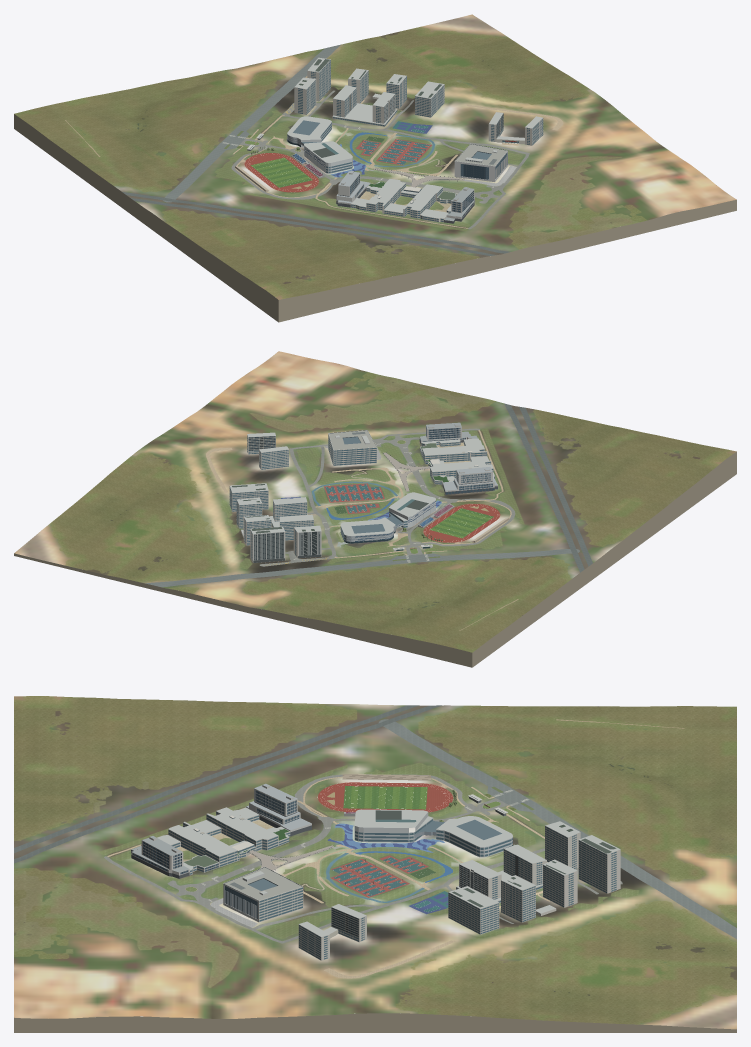
File: huangbohai-campus.glb
The picture shows the model from 3 angles, top to bottom: view 1: azimuth 30°, elevation 25°; view 2: azimuth 150°, elevation 25°; view 3: azimuth 270°, elevation 25°; orthographic projection. The views are drawn at different scales.
Visible parts, largest first — view 1: 黄渤海校区地形, object 2, 校园植被, 校内车行道, G228 丹东线, 芝樱路, 人行铺装, track, J5_4, G1, S5, J5_8 (+4 smaller); view 2: 黄渤海校区地形, object 2, 校园植被, 校内车行道, 芝樱路, G228 丹东线, 人行铺装, G2_6, J5_2, J5, G2_5, track (+4 smaller); view 3: 黄渤海校区地形, object 2, 校园植被, G228 丹东线, 校内车行道, 芝樱路, 人行铺装, G2, S5, G2_2, S5_2, S3 (+27 smaller).
Part boxes in pixels (left/top/right/bottom): 黄渤海校区地形: left=14, top=14, right=736, bottom=299; object 2: left=14, top=114, right=736, bottom=322; 校园植被: left=215, top=86, right=531, bottom=231; 校内车行道: left=231, top=90, right=529, bottom=229; G228 丹东线: left=122, top=192, right=510, bottom=255; 芝樱路: left=163, top=44, right=340, bottom=202; 人行铺装: left=233, top=100, right=563, bottom=228; track: left=244, top=153, right=318, bottom=192; J5_4: left=454, top=143, right=507, bottom=181; G1: left=294, top=79, right=316, bottom=114; S5: left=415, top=84, right=444, bottom=117; J5_8: left=455, top=144, right=506, bottom=165; 黄渤海校区地形: left=14, top=351, right=736, bottom=652; object 2: left=14, top=452, right=736, bottom=667; 校园植被: left=220, top=428, right=524, bottom=569; 校内车行道: left=236, top=428, right=515, bottom=566; 芝樱路: left=145, top=549, right=579, bottom=587; G228 丹东线: left=504, top=403, right=592, bottom=572; 人行铺装: left=206, top=430, right=511, bottom=558; G2_6: left=254, top=532, right=283, bottom=560; J5_2: left=328, top=434, right=376, bottom=465; J5: left=328, top=435, right=376, bottom=465; G2_5: left=254, top=533, right=283, bottom=559; track: left=423, top=504, right=500, bottom=542; 黄渤海校区地形: left=14, top=696, right=736, bottom=1029; object 2: left=14, top=1013, right=736, bottom=1032; 校园植被: left=99, top=762, right=639, bottom=940; G228 丹东线: left=14, top=705, right=441, bottom=863; 校内车行道: left=104, top=774, right=622, bottom=943; 芝樱路: left=378, top=719, right=736, bottom=939; 人行铺装: left=107, top=776, right=549, bottom=978; G2: left=578, top=840, right=620, bottom=893; S5: left=448, top=892, right=499, bottom=934; G2_2: left=579, top=840, right=616, bottom=892; S5_2: left=448, top=893, right=498, bottom=933; S3: left=543, top=865, right=577, bottom=907.
Bounding box in the file's own units: 944 × 75.65 × 944.
147 materials, 36 textured.
